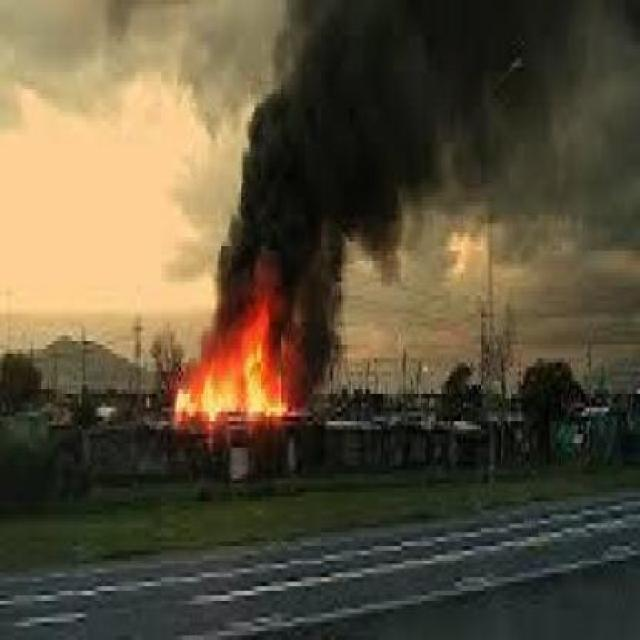Fire: (170, 302, 314, 421)
Smoke: (273, 6, 640, 250), (210, 104, 342, 392)
